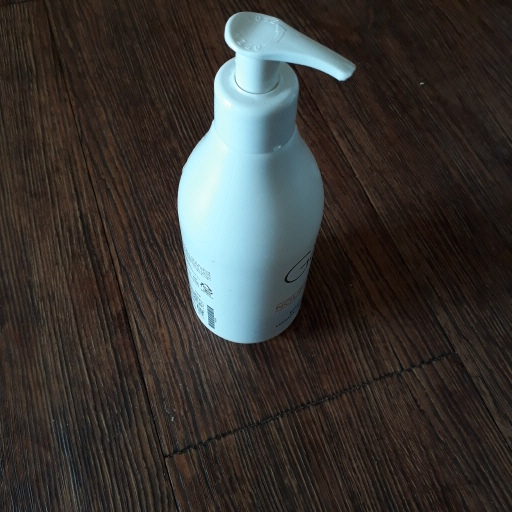Plastic_3: (178, 11, 358, 344)
